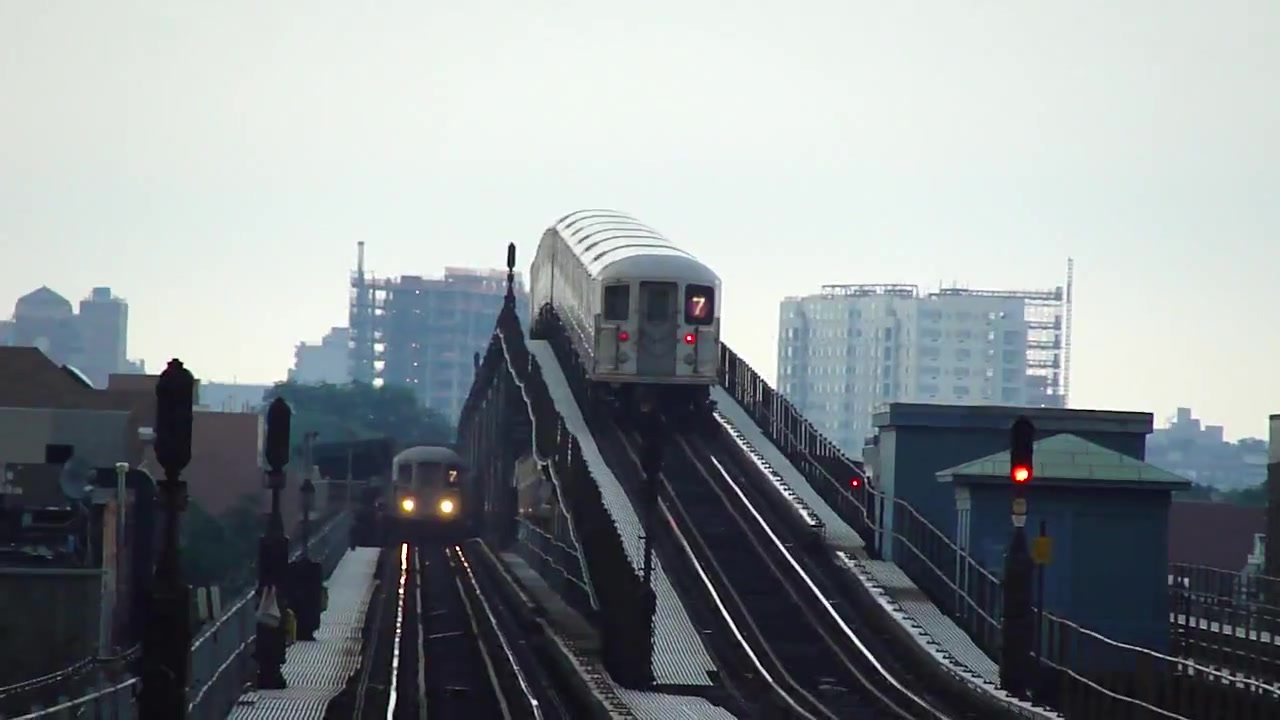train: (525, 204, 725, 427)
